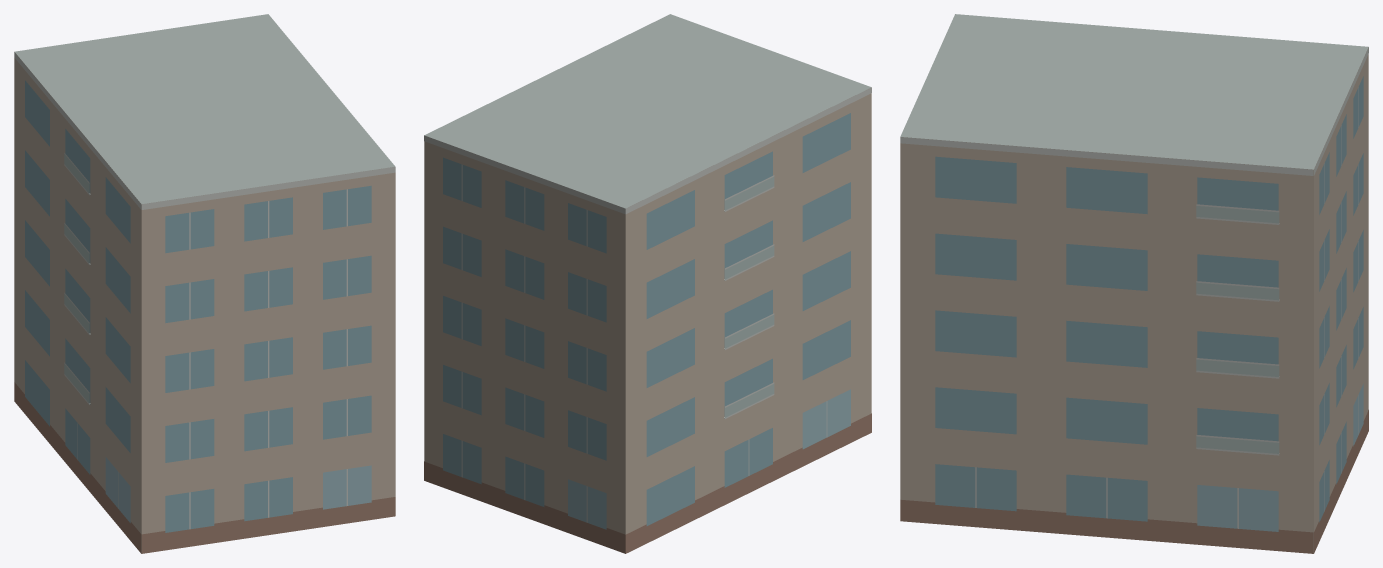
Rendered from survey-upis-32719659.glb.
3 views of the same model, side by side, from view 1: azimuth 30°, elevation 25°; view 2: azimuth 150°, elevation 25°; view 3: azimuth 270°, elevation 25° (orthographic). The views are drawn at different scales.
Parts seen in each view (by area): view 1: survey-upis-32719659.tmp; view 2: survey-upis-32719659.tmp; view 3: survey-upis-32719659.tmp.
Part boxes in pixels (x1,y1,x2,y2): survey-upis-32719659.tmp: (14,14,395,553); survey-upis-32719659.tmp: (424,14,871,553); survey-upis-32719659.tmp: (900,14,1368,553).
Size of the model in its own units: 12.51 by 14.4 by 15.92.
